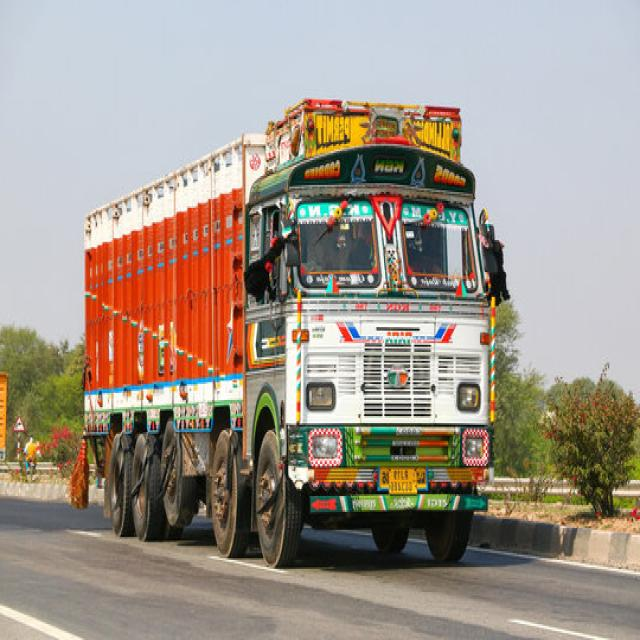truck: (71, 99, 508, 565)
